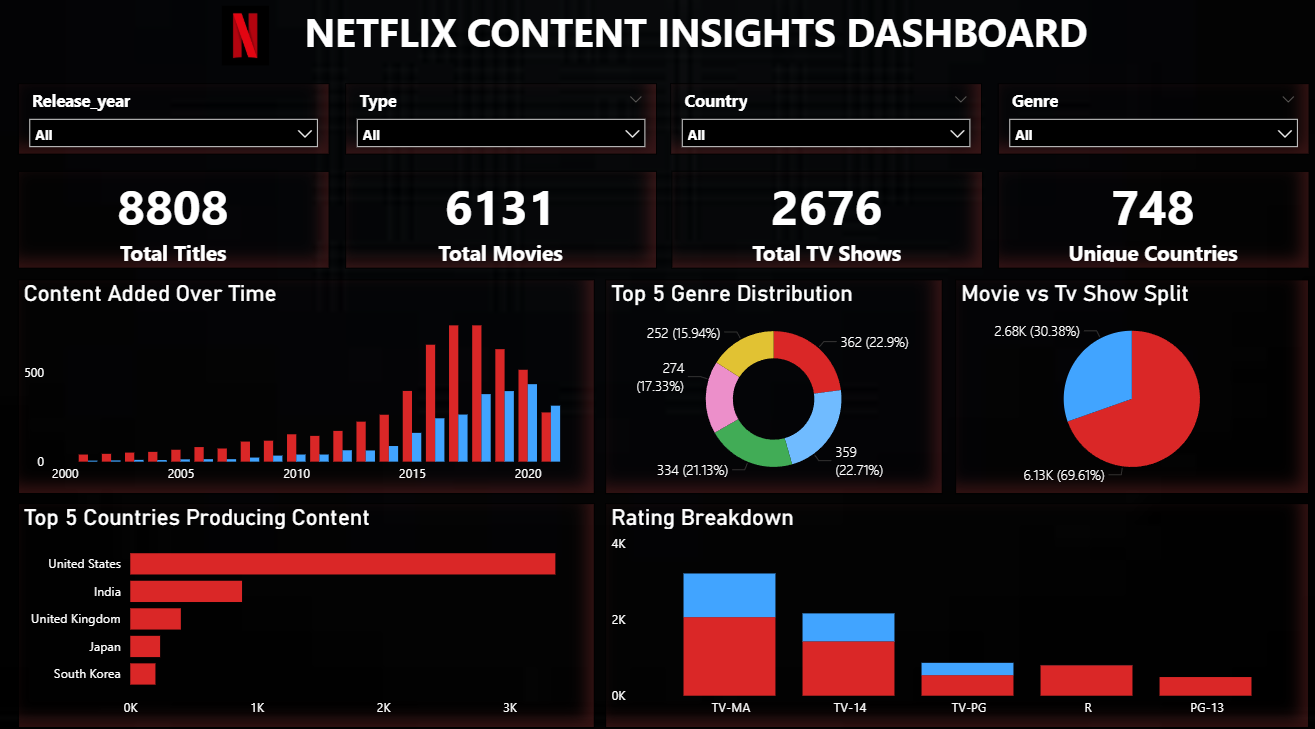

What the dashboard file says about the page in this screenshot:
{"tool":"powerbi","page":{"name":"Page 1","canvas":[1280,720],"ordinal":0},"visuals":[{"type":"textbox","box":[278.7,8.4,797.5,68.8],"z":0},{"type":"image","box":[206.3,8.4,72.4,67.6],"z":1000},{"type":"slicer","fields":{"Values":["netflix_titles.release_year"]},"box":[22.9,88.1,300.4,68.8],"z":2000},{"type":"slicer","fields":{"Values":["netflix_titles.type"]},"box":[339,88.1,300.4,68.8],"z":3000},{"type":"slicer","fields":{"Values":["netflix_titles.country"]},"box":[652.7,88.1,300.4,68.8],"z":4000},{"type":"slicer","fields":{"Values":["netflix_titles.listed_in"]},"box":[968.8,88.1,300.4,68.8],"z":5000},{"type":"card","fields":{"Values":["cetegory_mapping.Total Titles"]},"box":[22.9,172.5,300.4,94.1],"z":6000},{"type":"card","fields":{"Values":["cetegory_mapping.Total Movies"]},"box":[339,172.5,300.4,94.1],"z":7000},{"type":"card","fields":{"Values":["cetegory_mapping.Total TV Shows"]},"box":[653.9,172.5,300.4,94.1],"z":8000},{"type":"card","fields":{"Values":["cetegory_mapping.Unique Countries"]},"box":[968.8,172.5,300.4,94.1],"z":9000},{"type":"clusteredColumnChart","title":"Content Added Over Time","fields":{"Category":["netflix_titles.release_year"],"Y":["CountNonNull(netflix_titles.title)"],"Series":["netflix_titles.type"]},"box":[23.3,277.2,557.1,207.2],"z":10000},{"type":"barChart","title":"Top 5 Countries Producing Content","fields":{"Category":["netflix_titles.country"],"Y":["CountNonNull(netflix_titles.title)"]},"box":[23.3,494,557.1,216.8],"z":11000},{"type":"donutChart","title":"Top 5 Genre Distribution","fields":{"Y":["CountNonNull(netflix_titles.title)"],"Category":["netflix_titles.listed_in"]},"box":[589.9,277.5,325.7,207.5],"z":12000},{"type":"pieChart","title":"Movie vs Tv Show Split","fields":{"Category":["netflix_titles.type"],"Y":["CountNonNull(netflix_titles.title)"]},"box":[927.6,277.2,341.7,207.2],"z":13000},{"type":"columnChart","title":"Rating Breakdown","fields":{"Category":["netflix_titles.rating"],"Y":["CountNonNull(netflix_titles.title)"],"Series":["netflix_titles.type"]},"box":[589.9,493.4,679.2,217.2],"z":14000}]}

Visuals, with their boxes in screenshot pixels (x1, y1, x2, y2), scaled from the page's 1280x720 canvas onto the 1315x729 screenshot:
textbox: crop(286, 9, 1106, 78)
image: crop(212, 9, 286, 77)
slicer - netflix_titles.release_year: crop(24, 89, 332, 159)
slicer - netflix_titles.type: crop(348, 89, 657, 159)
slicer - netflix_titles.country: crop(671, 89, 979, 159)
slicer - netflix_titles.listed_in: crop(995, 89, 1304, 159)
card - cetegory_mapping.Total Titles: crop(24, 175, 332, 270)
card - cetegory_mapping.Total Movies: crop(348, 175, 657, 270)
card - cetegory_mapping.Total TV Shows: crop(672, 175, 980, 270)
card - cetegory_mapping.Unique Countries: crop(995, 175, 1304, 270)
"Content Added Over Time" clusteredColumnChart: crop(24, 281, 596, 490)
"Top 5 Countries Producing Content" barChart: crop(24, 500, 596, 720)
"Top 5 Genre Distribution" donutChart: crop(606, 281, 941, 491)
"Movie vs Tv Show Split" pieChart: crop(953, 281, 1304, 490)
"Rating Breakdown" columnChart: crop(606, 500, 1304, 719)
